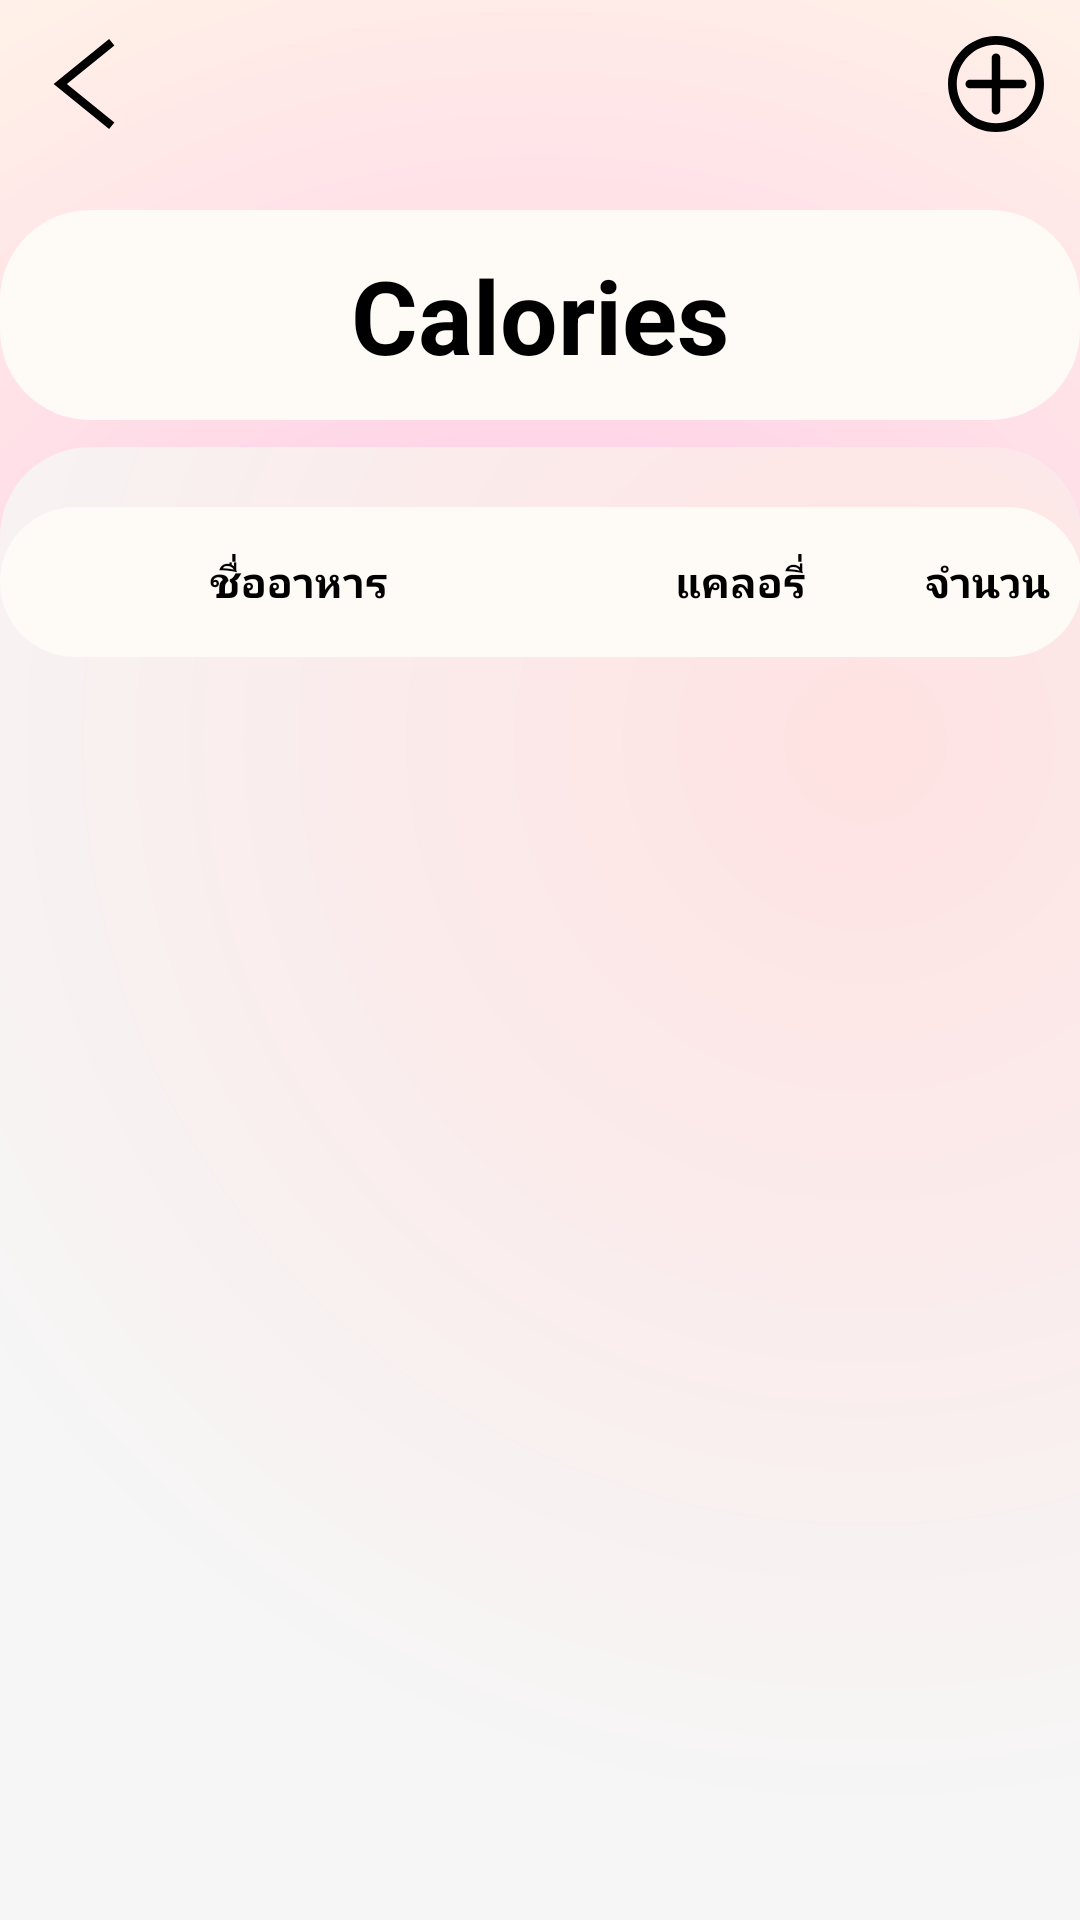

Screen size 1080*1920. Icon name, then its center in pixels as (x=x, y=y):
left arrow: (x=84, y=84)
plus: (x=996, y=84)
